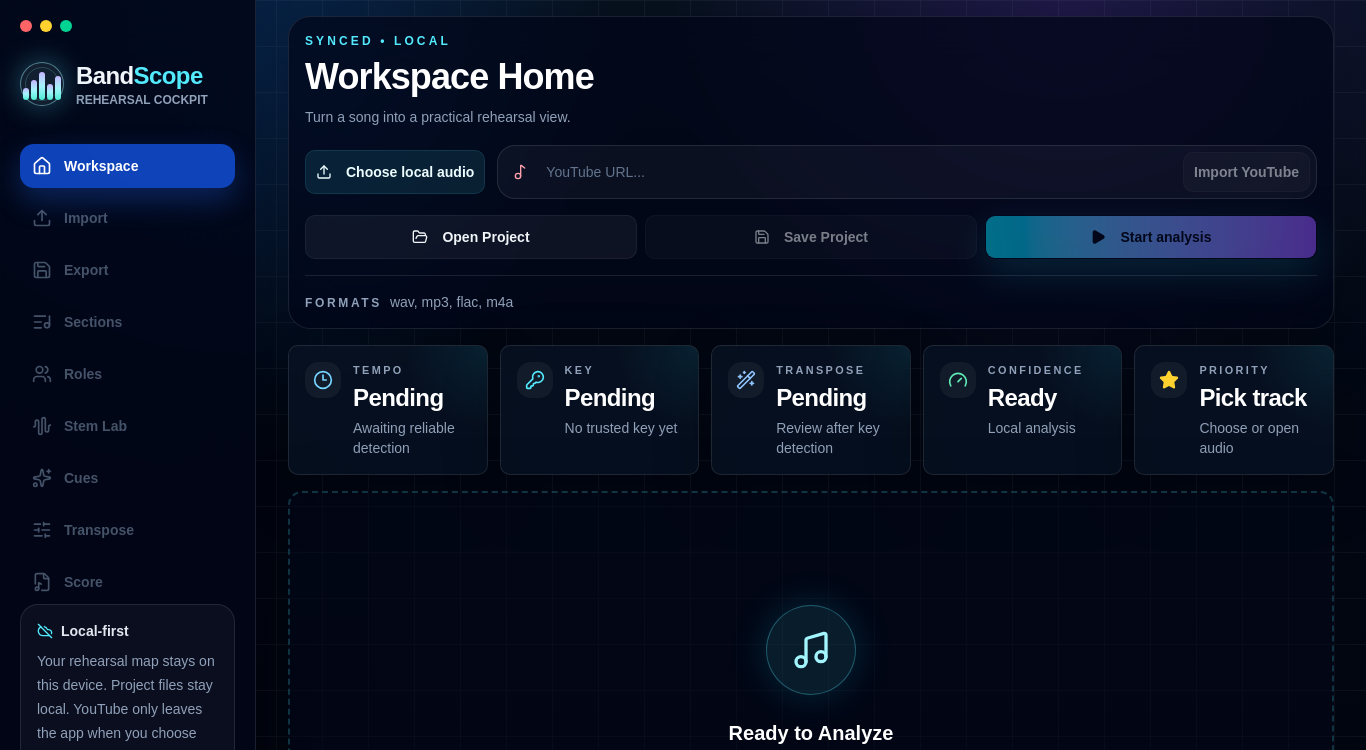
Test case: App › renders a rehearsal song structure timeline from real section ranges
Click the button "Open Project": (471, 237) left=305, top=215, right=637, bottom=259
(page scrolled)
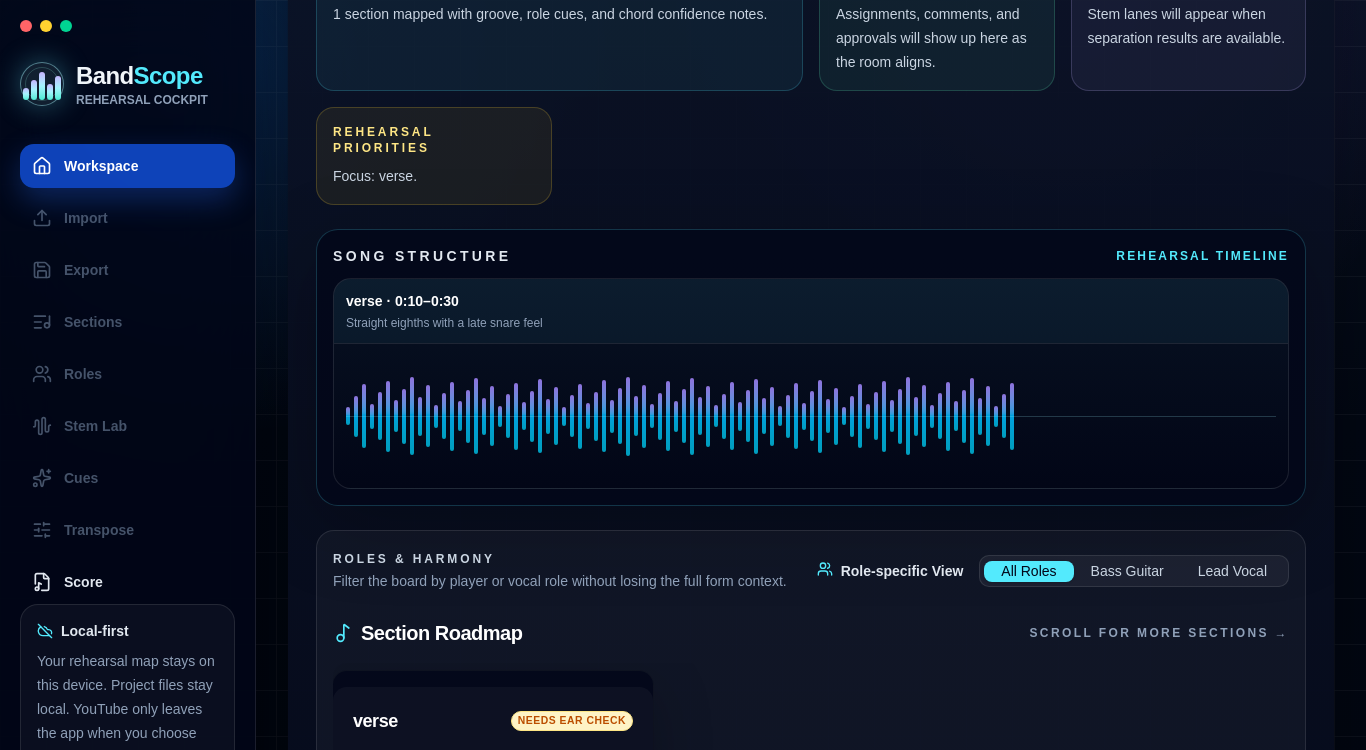
Expected: the heading "Song Structure" is shown, left=333, top=246, right=512, bottom=266
Expected: the text "verse · 0:10–0:30" is shown, left=346, top=293, right=459, bottom=309
Expected: the text "Rehearsal timeline" is shown, left=1116, top=248, right=1289, bottom=264
